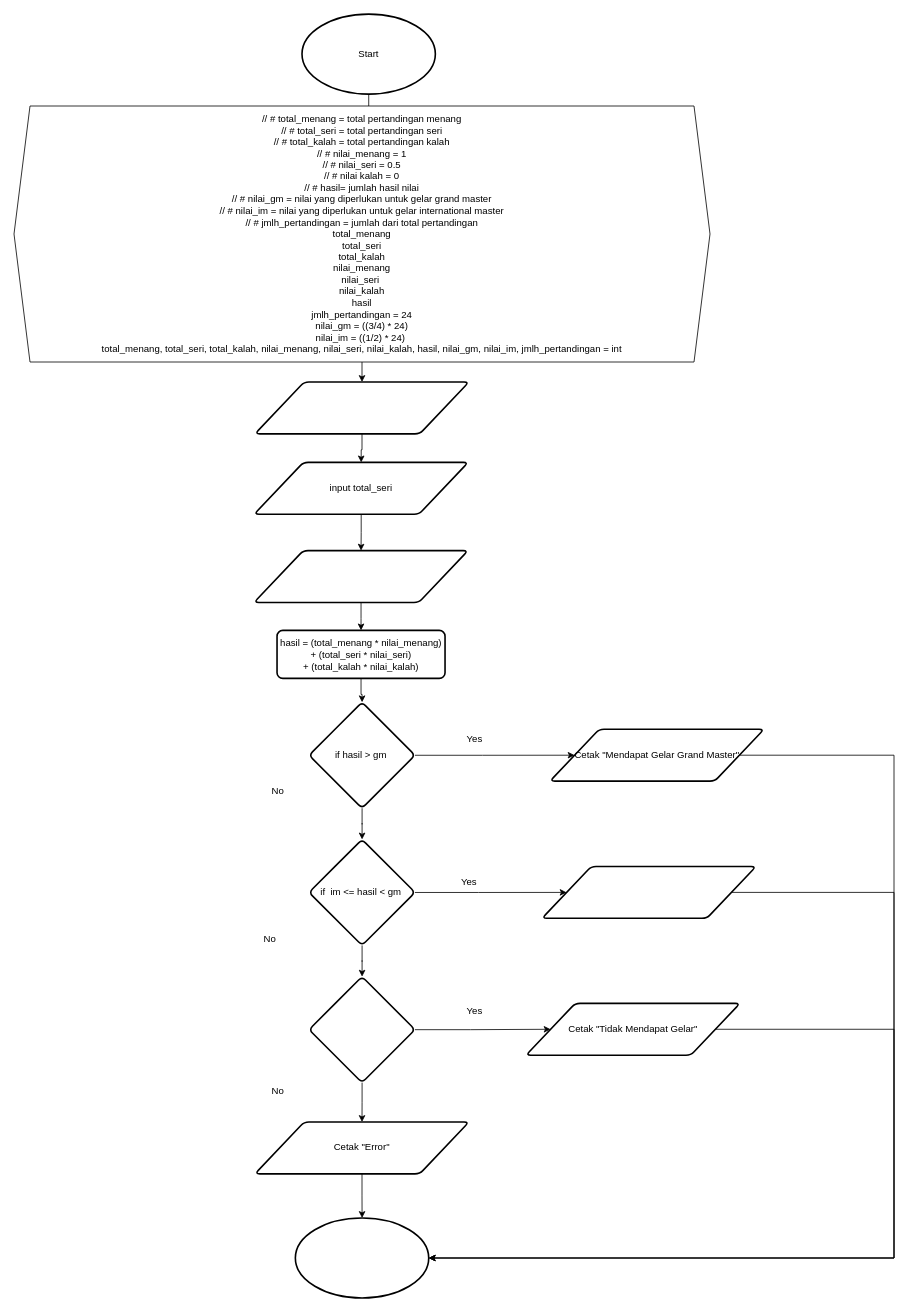
Some shapes in this 914 by 1313 pixel diagram are drawn without their labels. Here are the shapes that lost their labels. From the top down, the centre of each, then its label:
point (361, 407): input total_menang
point (360, 576): input total_kalah
point (648, 892): Cetak "Mendapat Gelar Master"
point (361, 1029): if im > hasil
point (361, 1257): End
